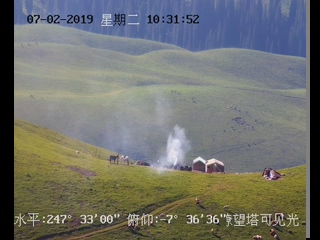smoke: (109, 93, 194, 172)
